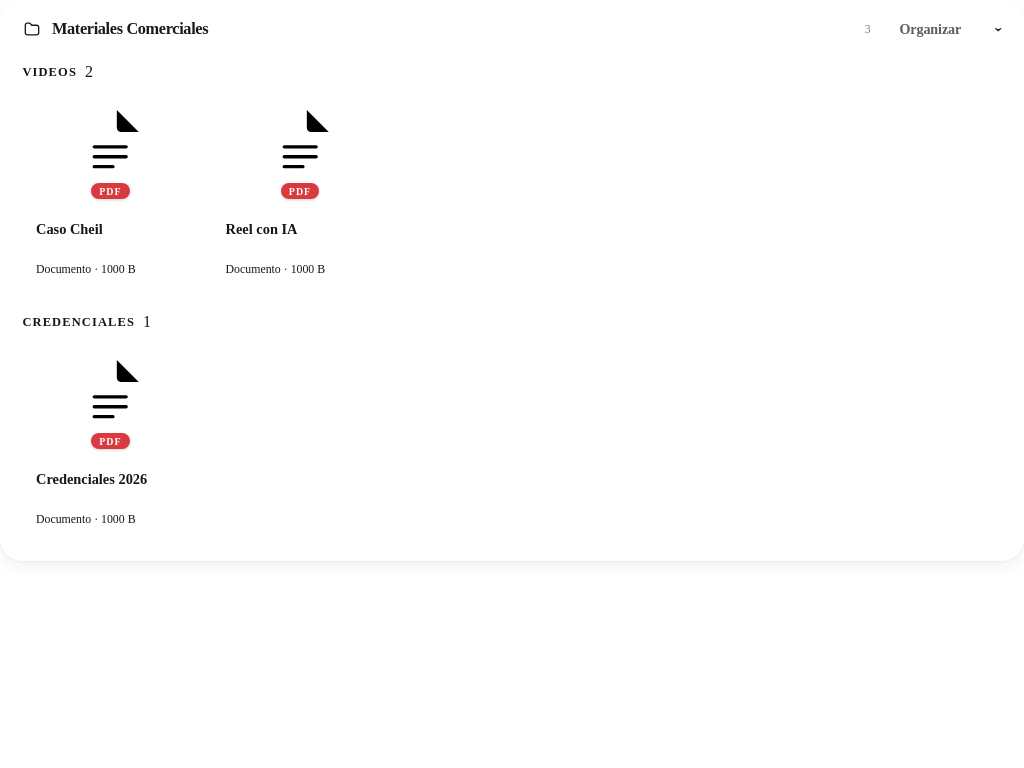
Test: MaterialesAgrupados — leer y organizar son dos vistas › al pulsar Organizar aparecen las asas y los desplegables; al pulsar Listo se van
The width and height of the screenshot is (1024, 768).
Click the button "Organizar": (930, 29) [882,11,979,47]
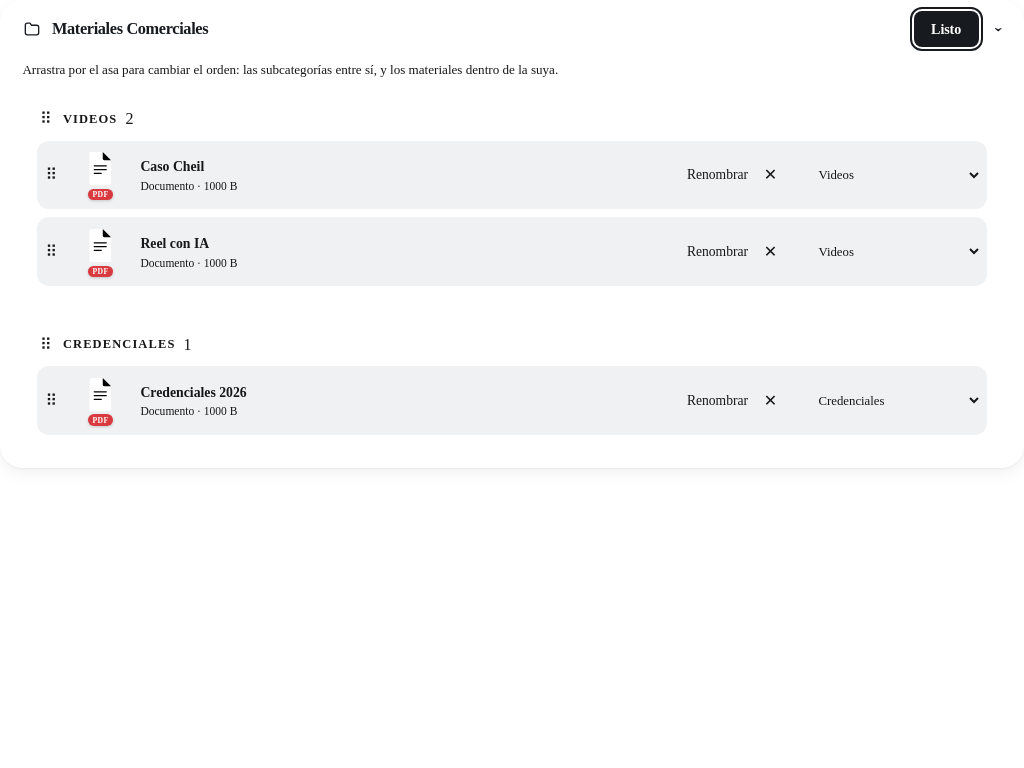
Result: the button named "Mover la subcategoría Videos" is shown at [37,109,55,130]
Result: the button named "Mover la subcategoría Credenciales" is shown at [37,334,55,355]
Result: the button named "Mover Caso Cheil" is shown at [42,165,60,185]
Click the button "Listo": (946, 29) [914,11,979,47]
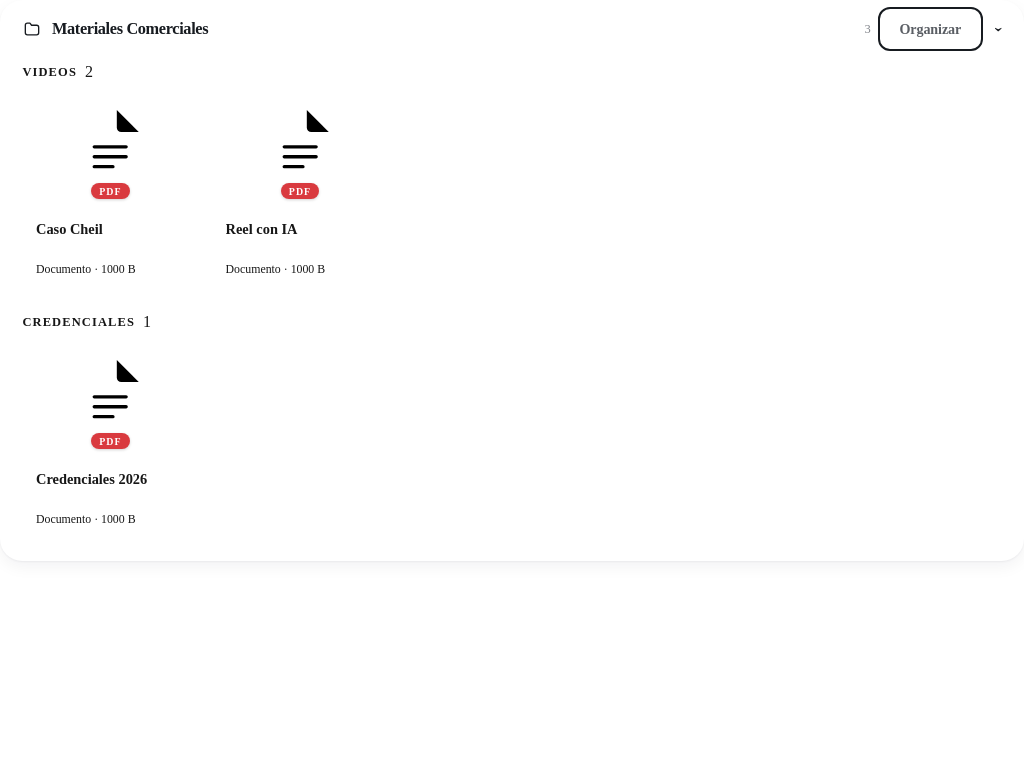
Result: the dropdown is gone
